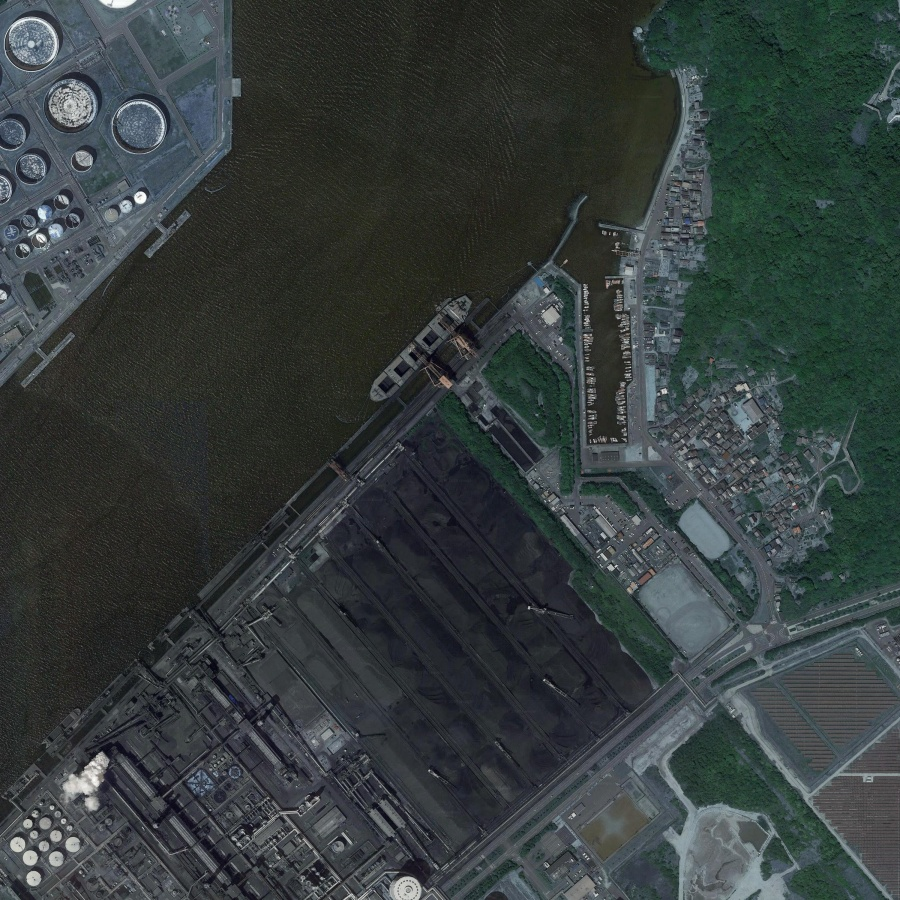PowerPlant: (280, 423, 667, 817)
